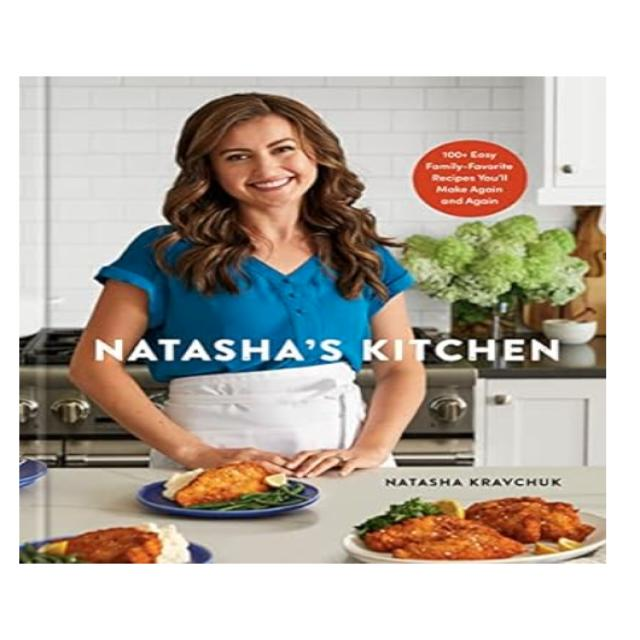titles-or-authors: (85, 334, 566, 368), (378, 471, 572, 495)
